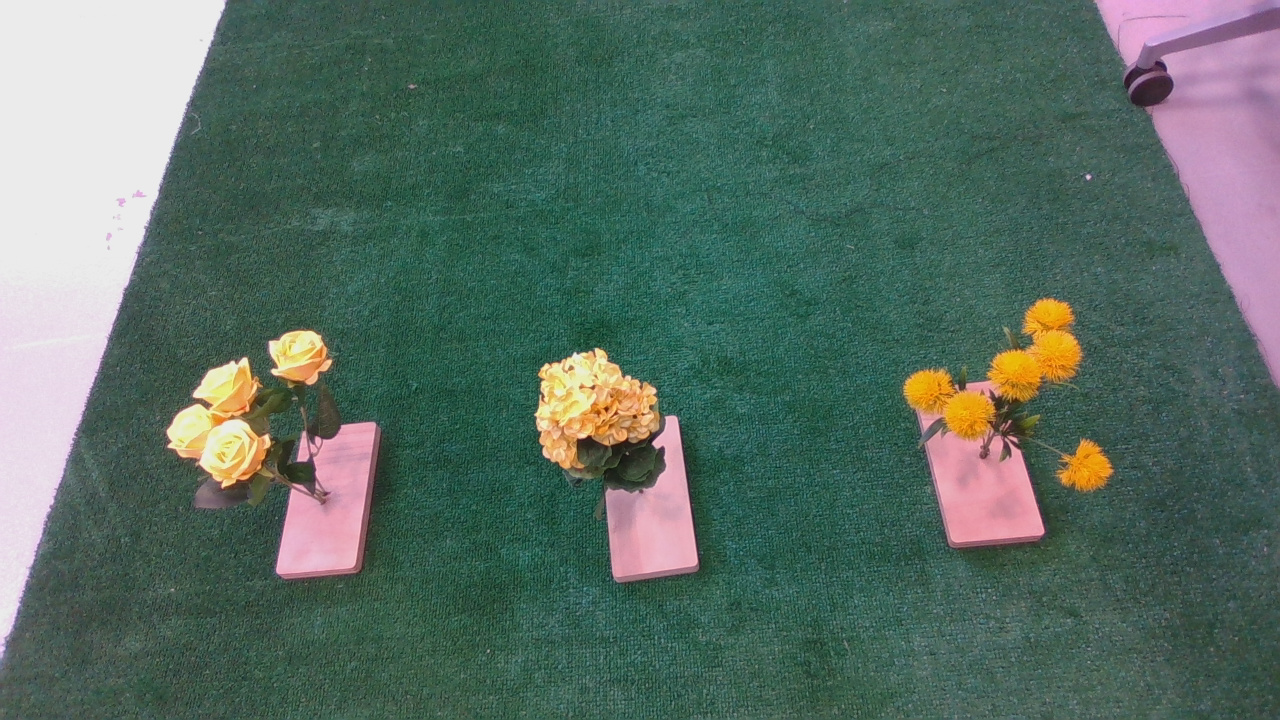dandelion: (887, 295, 1125, 499)
geranium: (525, 348, 678, 499)
rose: (170, 328, 352, 518)
